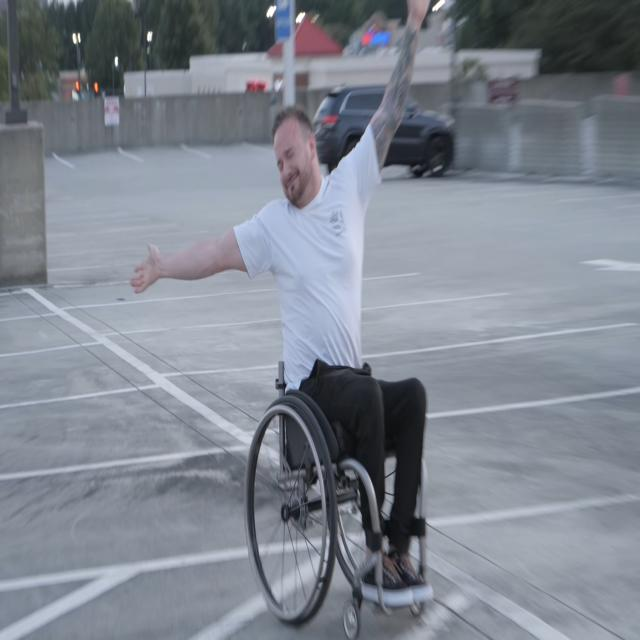wheelchairs: (243, 351, 437, 638)
